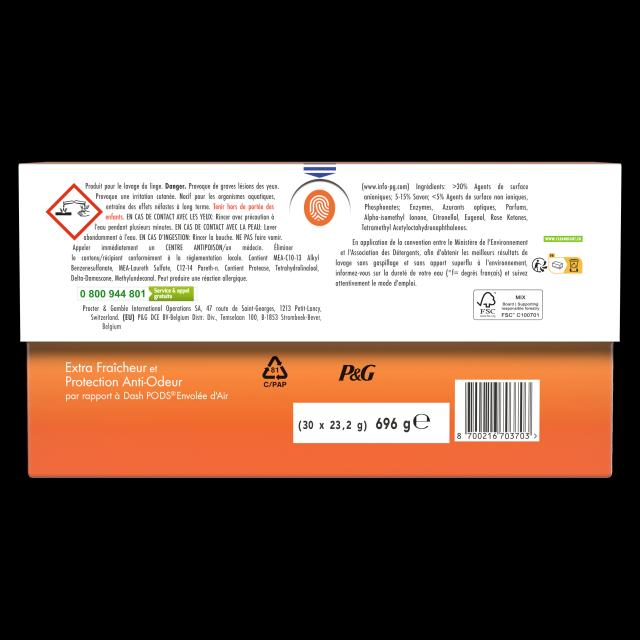GHS_Symbol_CORROSION: (46, 183, 103, 240)
